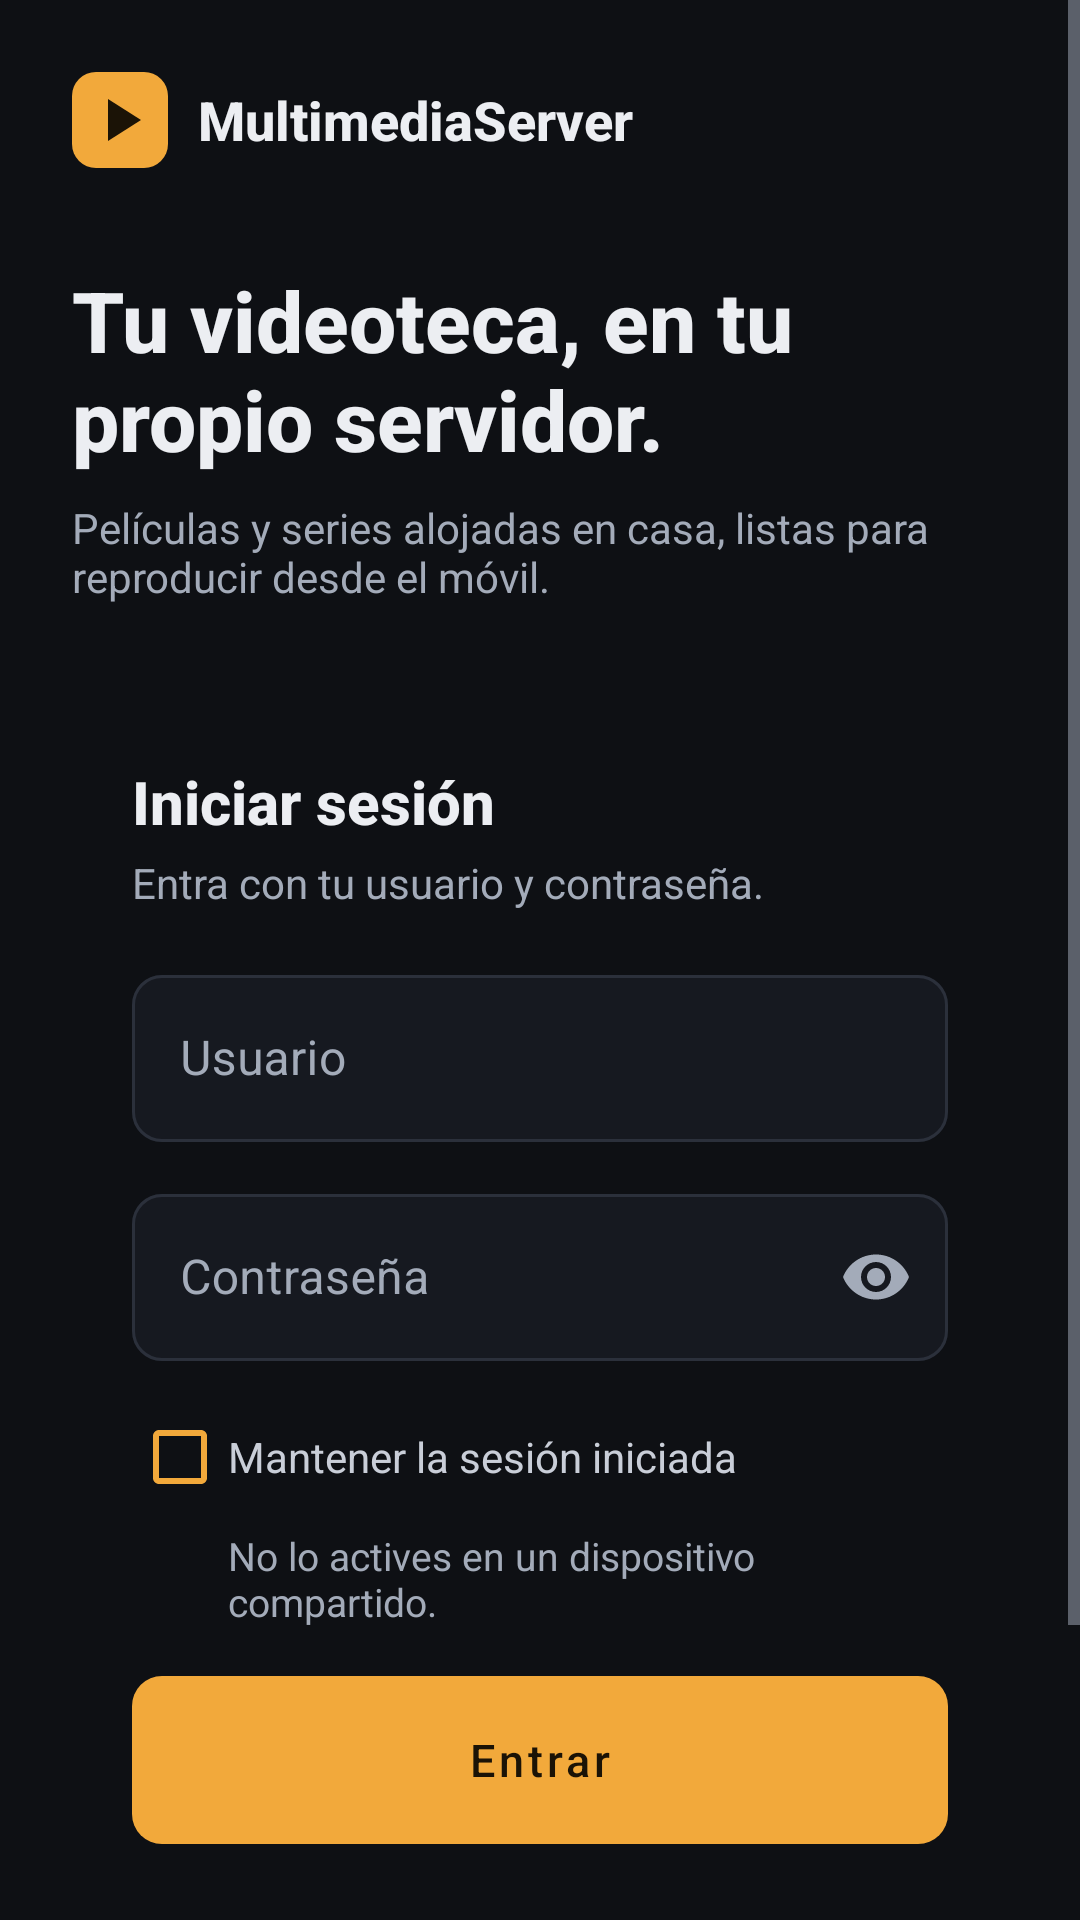

Where to tap for icons on this 1080x1920 app screen, as (x,y):
brand: (120,120)
